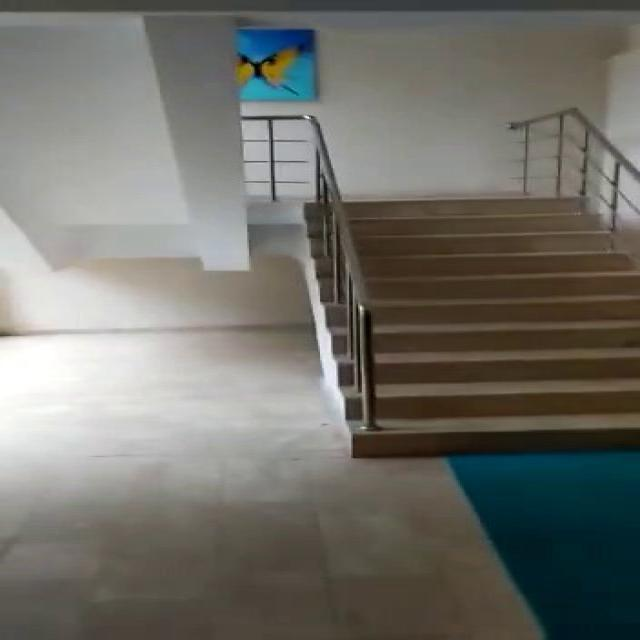stairs: (306, 194, 638, 452)
